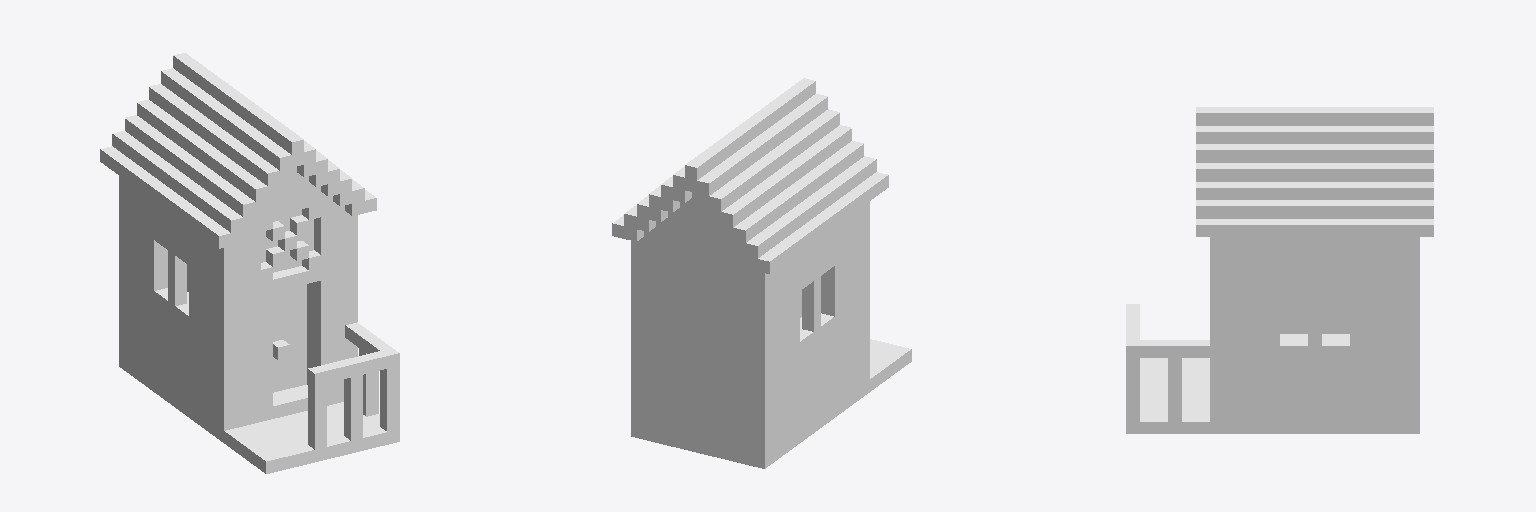
The model's file is Hut.obj.
The picture shows the model from 3 angles: view 1: azimuth 30°, elevation 25°; view 2: azimuth 150°, elevation 25°; view 3: azimuth 270°, elevation 25°; orthographic projection.
Visible parts, largest first — view 1: Hut; view 2: Hut; view 3: Hut.
Boxes of the visible parts, x1=… form: Hut: x1=100, y1=53, x2=399, y2=473; Hut: x1=612, y1=78, x2=911, y2=468; Hut: x1=1126, y1=107, x2=1433, y2=433.
Size of the model in its own units: 13 by 23 by 22.